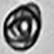correct: (3, 2, 42, 52)
